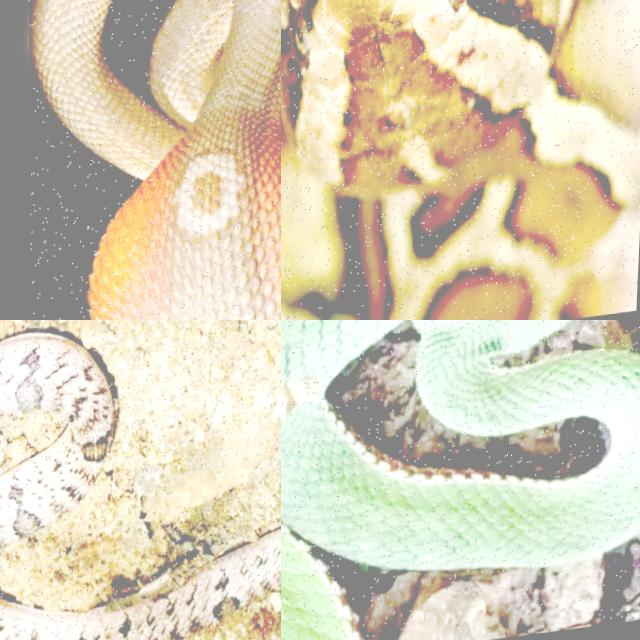Calloselasma rhodostoma: (0, 528, 280, 639)
Naja kaouthia: (29, 0, 280, 319)
Python bivittatus: (281, 0, 639, 319)
Trimeresurus: (281, 320, 639, 639)
snake: (281, 0, 639, 319), (281, 320, 639, 639), (29, 0, 280, 319), (0, 528, 280, 639)
